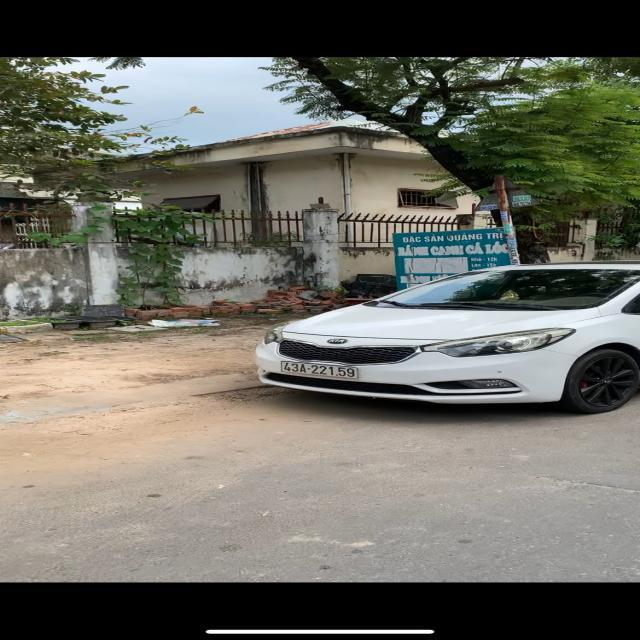car: (250, 261, 640, 421)
plate: (279, 358, 362, 384)
